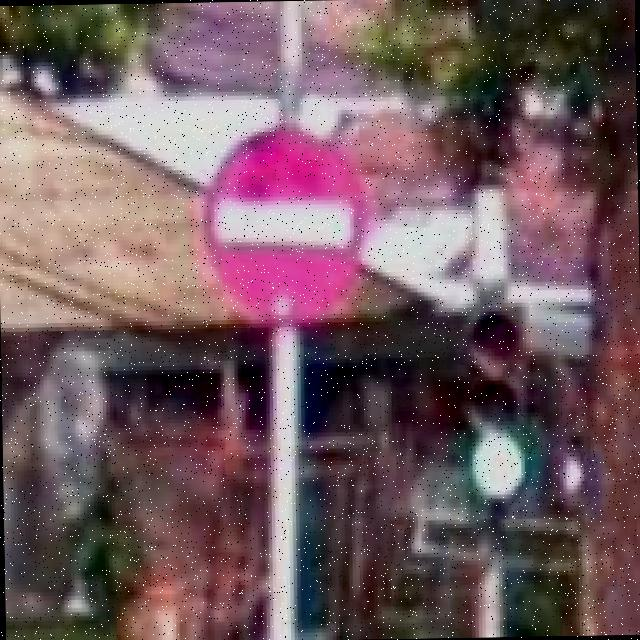Zakaz wjazdu: (202, 129, 369, 324)
